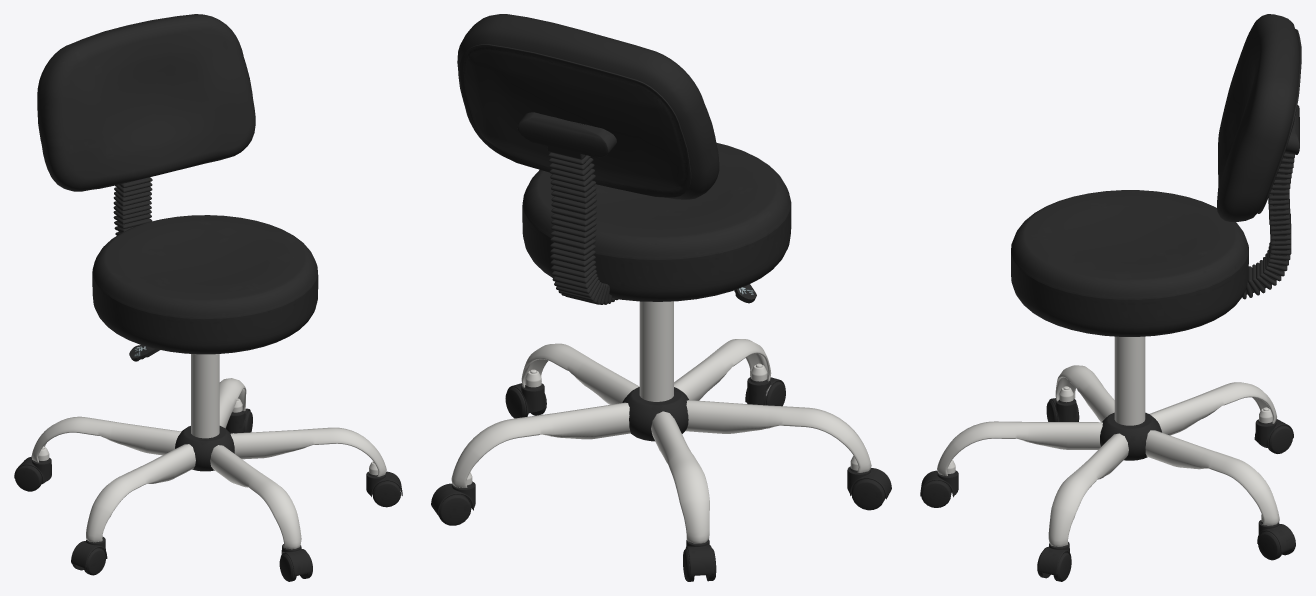
3 renders of one model, left to right at view 1: azimuth 30°, elevation 25°; view 2: azimuth 150°, elevation 25°; view 3: azimuth 270°, elevation 25°, orthographic. The views are drawn at different scales.
Parts seen in each view (by area): view 1: "$AGHECLJOLNCAAAAAICBAAAAAAAAAGIMNDIBK"; view 2: "$AGHECLJOLNCAAAAAICBAAAAAAAAAGIMNDIBK"; view 3: "$AGHECLJOLNCAAAAAICBAAAAAAAAAGIMNDIBK".
Boxes of the visible parts, x1,y1,x2,y2 form: "$AGHECLJOLNCAAAAAICBAAAAAAAAAGIMNDIBK": [14, 14, 402, 581]; "$AGHECLJOLNCAAAAAICBAAAAAAAAAGIMNDIBK": [431, 14, 891, 581]; "$AGHECLJOLNCAAAAAICBAAAAAAAAAGIMNDIBK": [920, 14, 1301, 581].
Bounding box in the file's own units: 0.6727 × 0.862 × 0.648.
1 material, 1 textured.
